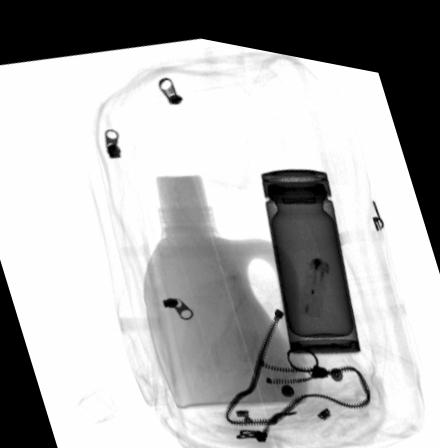Lighter: (298, 245, 330, 305)
